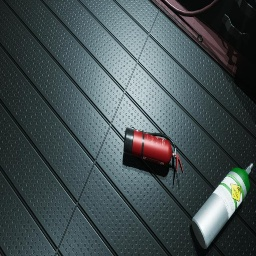0: (192, 163, 254, 249)
FireExtinguisher ]: (124, 126, 183, 174)
